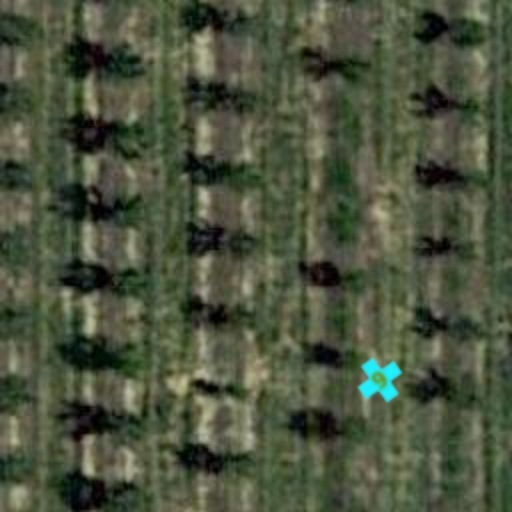cross: (348, 348, 412, 412)
